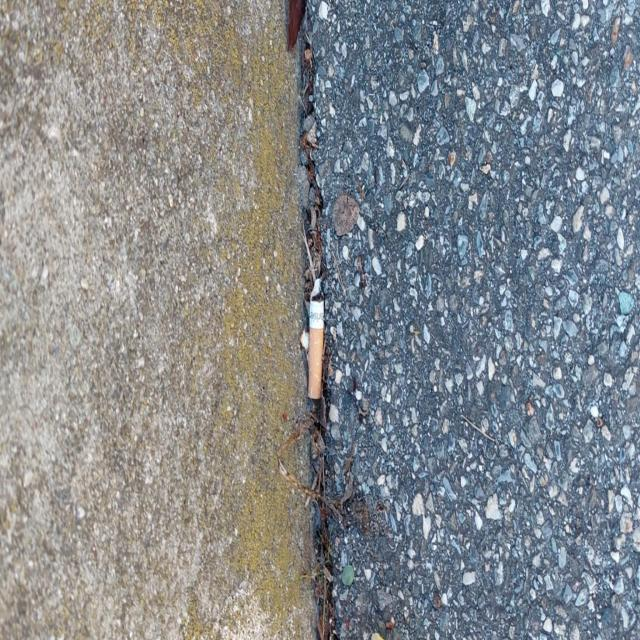other waste: (307, 277, 325, 400)
